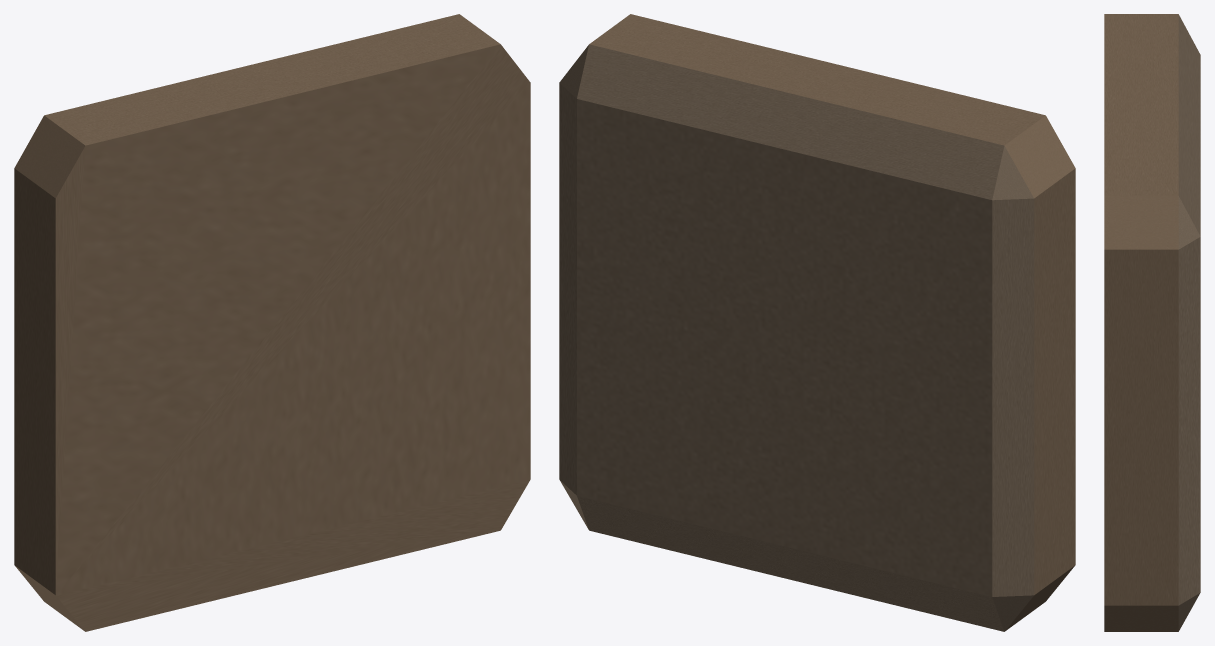
File: de_desert_3.fbx
3 views of the same model, side by side, from view 1: azimuth 30°, elevation 25°; view 2: azimuth 150°, elevation 25°; view 3: azimuth 270°, elevation 25° (orthographic). The views are drawn at different scales.
Visible parts, largest first — view 1: Cube.309; view 2: Cube.309; view 3: Cube.309.
Boxes of the visible parts, x1=… form: Cube.309: x1=14, y1=14, x2=530, y2=631; Cube.309: x1=559, y1=14, x2=1075, y2=631; Cube.309: x1=1104, y1=14, x2=1200, y2=631.
Size of the model in its own units: 399 by 390 by 78.
